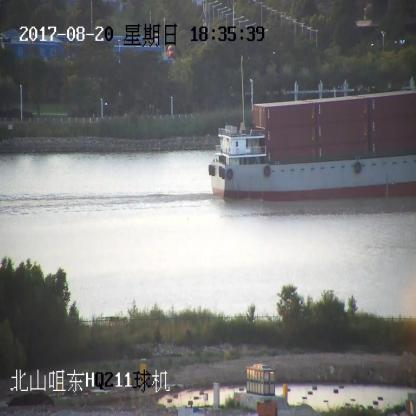Container Ship: (207, 91, 416, 201)
